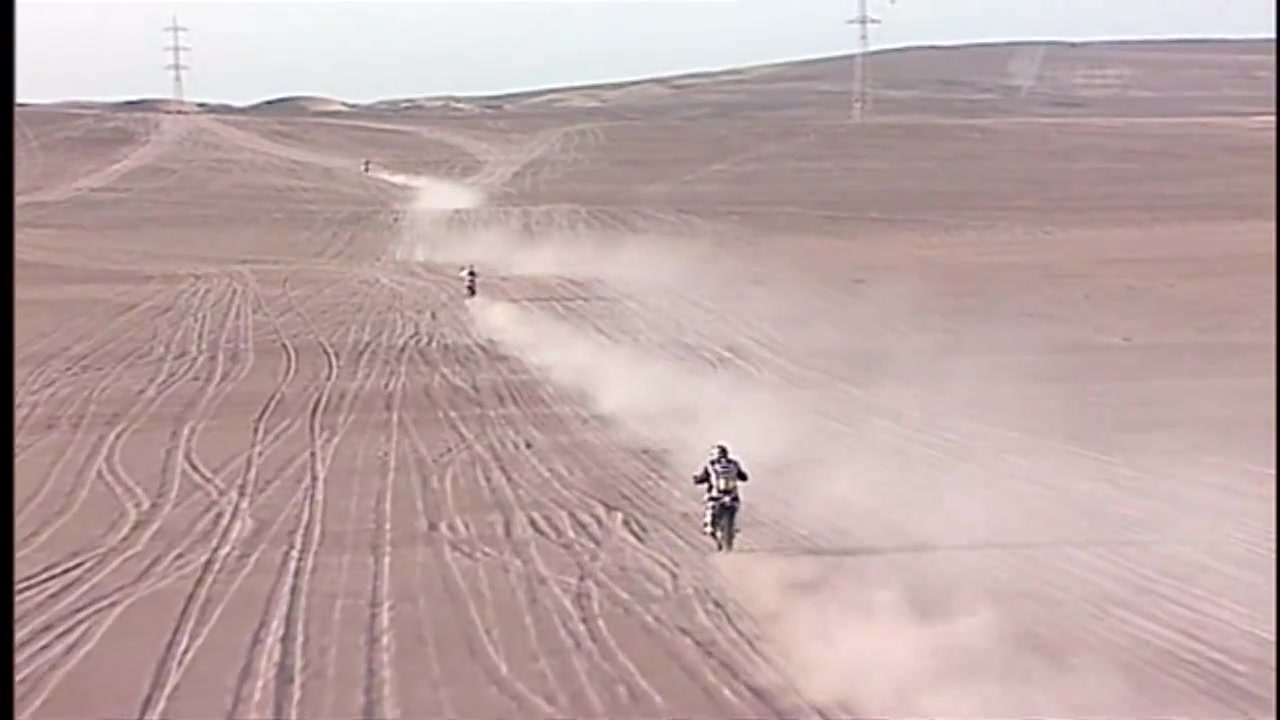motorbike: (690, 470, 750, 551)
